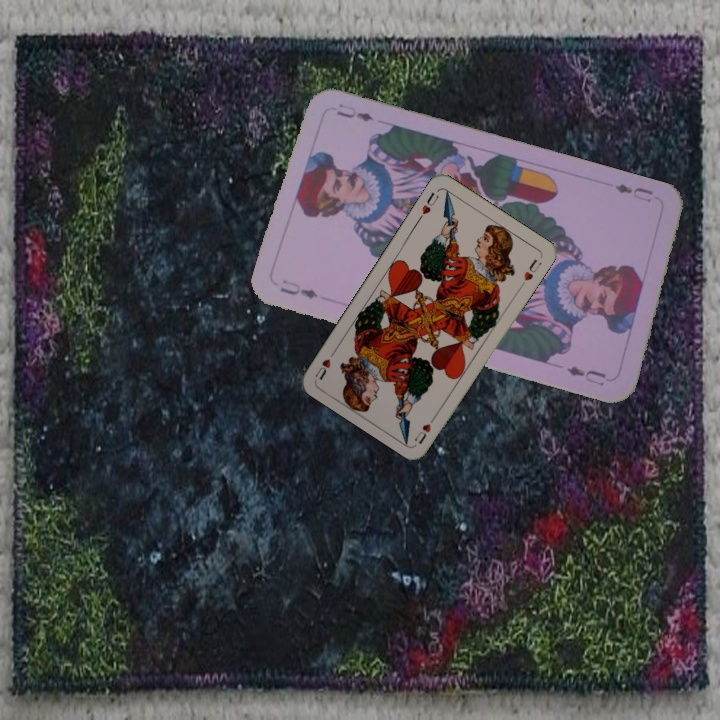EU: (276, 275, 320, 302), (611, 179, 655, 205)
HU: (410, 410, 440, 446), (415, 188, 442, 223)
